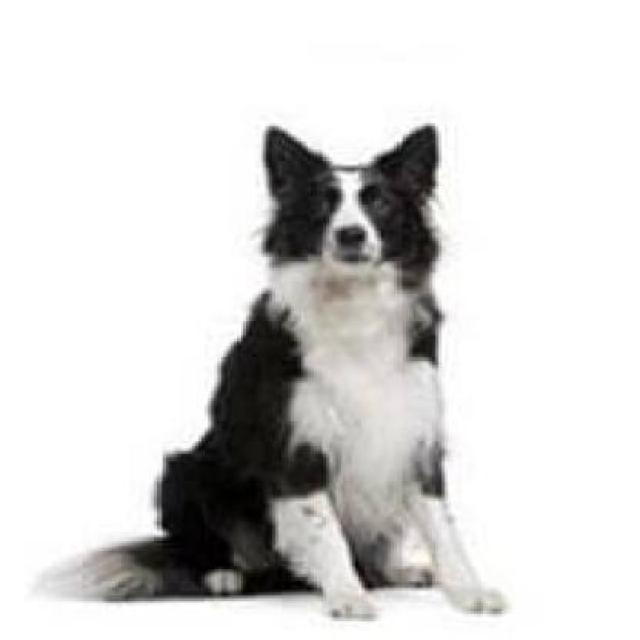animals: (143, 120, 508, 609)
